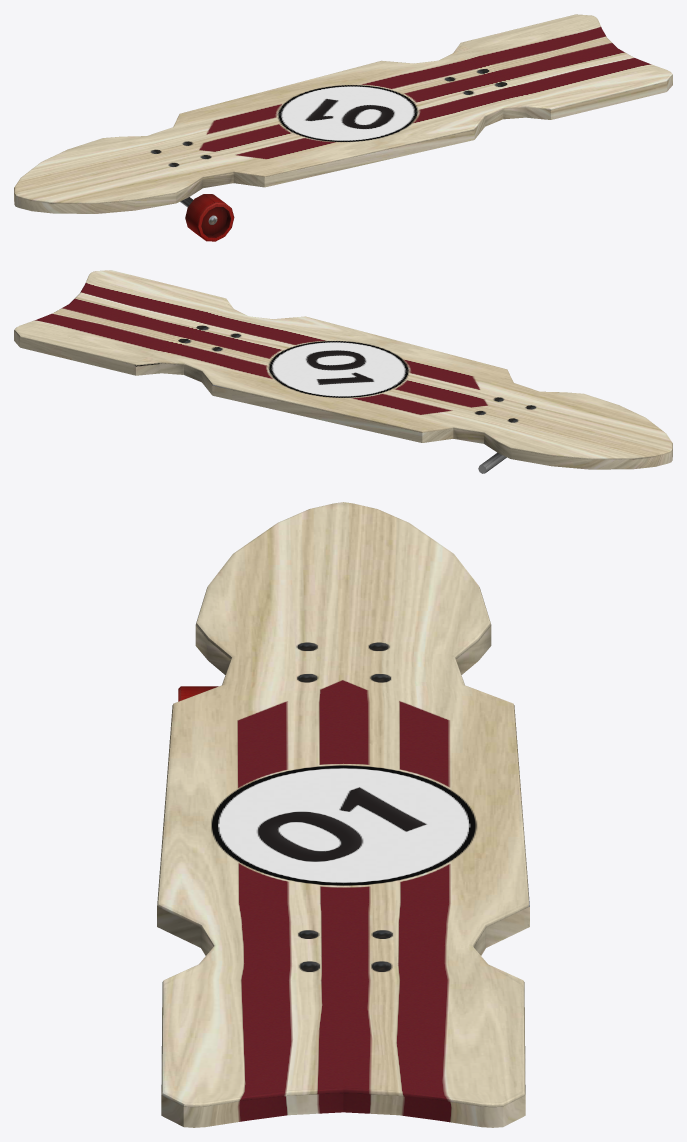
The model's file is SkateBoard08.fbx.
3 renders of one model, top to bottom at view 1: azimuth 30°, elevation 25°; view 2: azimuth 150°, elevation 25°; view 3: azimuth 270°, elevation 25°, orthographic. The views are drawn at different scales.
Visible parts, largest first — view 1: Board, wheels; view 2: Board; view 3: Board.
Boxes of the visible parts, box(x1,y1,x2,y2) form: Board: box(14, 14, 672, 213); wheels: box(185, 194, 234, 241); Board: box(14, 270, 672, 469); Board: box(157, 502, 529, 1127).
Size of the model in its own units: 0.7051 by 0.0611 by 0.1841.
